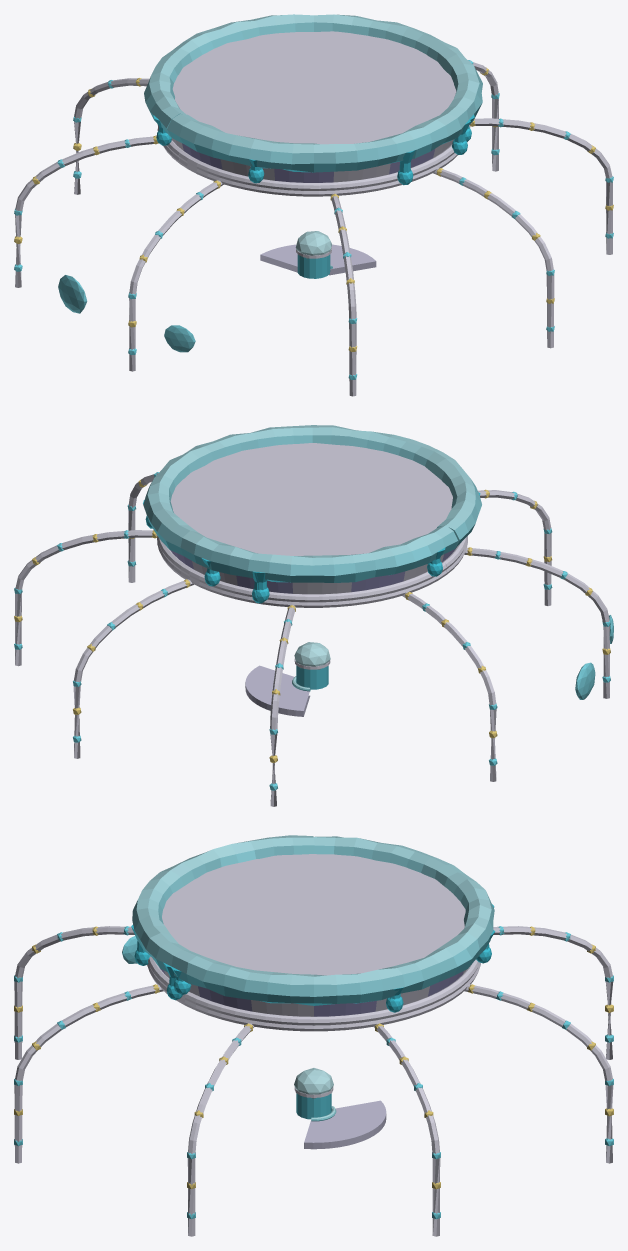
File: goo_jar_trim_2_top@space.fbx
The picture shows the model from 3 angles, top to bottom: view 1: azimuth 30°, elevation 25°; view 2: azimuth 150°, elevation 25°; view 3: azimuth 270°, elevation 25°; orthographic projection. The views are drawn at different scales.
Visible parts, largest first — view 1: goo_jar_trim_2_top; view 2: goo_jar_trim_2_top; view 3: goo_jar_trim_2_top.
Part boxes in pixels (x1,y1,x2,y2): goo_jar_trim_2_top: (14,14,613,396); goo_jar_trim_2_top: (14,425,613,806); goo_jar_trim_2_top: (14,835,613,1236).
Bounding box in the file's own units: 53.14 × 20.05 × 50.99.
